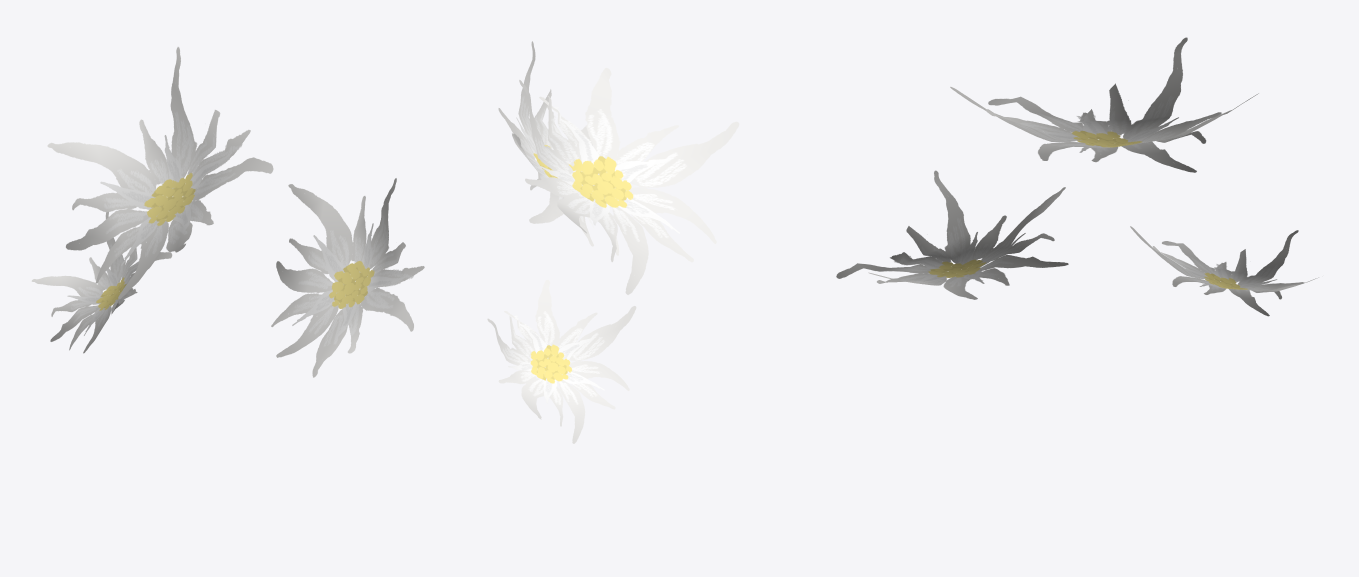
File: Edelweiss.glb
3 renders of one model, left to right at view 1: azimuth 30°, elevation 25°; view 2: azimuth 150°, elevation 25°; view 3: azimuth 270°, elevation 25°, orthographic. The views are drawn at different scales.
Parts seen in each view (by area): view 1: edelweiss_petal_2, edelweiss_petal_3, edelweiss_petal_1; view 2: edelweiss_petal_2, edelweiss_petal_1, edelweiss_petal_3; view 3: edelweiss_petal_2, edelweiss_petal_3, edelweiss_petal_1.
Part boxes in pixels (x1,y1,x2,y2): edelweiss_petal_2: (47,46,273,298); edelweiss_petal_3: (271,178,424,377); edelweiss_petal_1: (31,211,172,353); edelweiss_petal_2: (519,68,739,294); edelweiss_petal_1: (487,280,636,443); edelweiss_petal_3: (498,41,619,255); edelweiss_petal_2: (950,37,1258,172); edelweiss_petal_3: (836,170,1068,299); edelweiss_petal_1: (1130,226,1318,316).
Size of the model in its own units: 0.4152 by 0.7385 by 0.6483.
7 materials, 7 textured.
